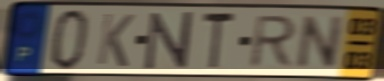0: (47, 7, 92, 72)
K: (94, 11, 137, 70)
N: (143, 10, 195, 73), (292, 14, 347, 71)
R: (245, 13, 300, 71)
T: (201, 10, 238, 73)
